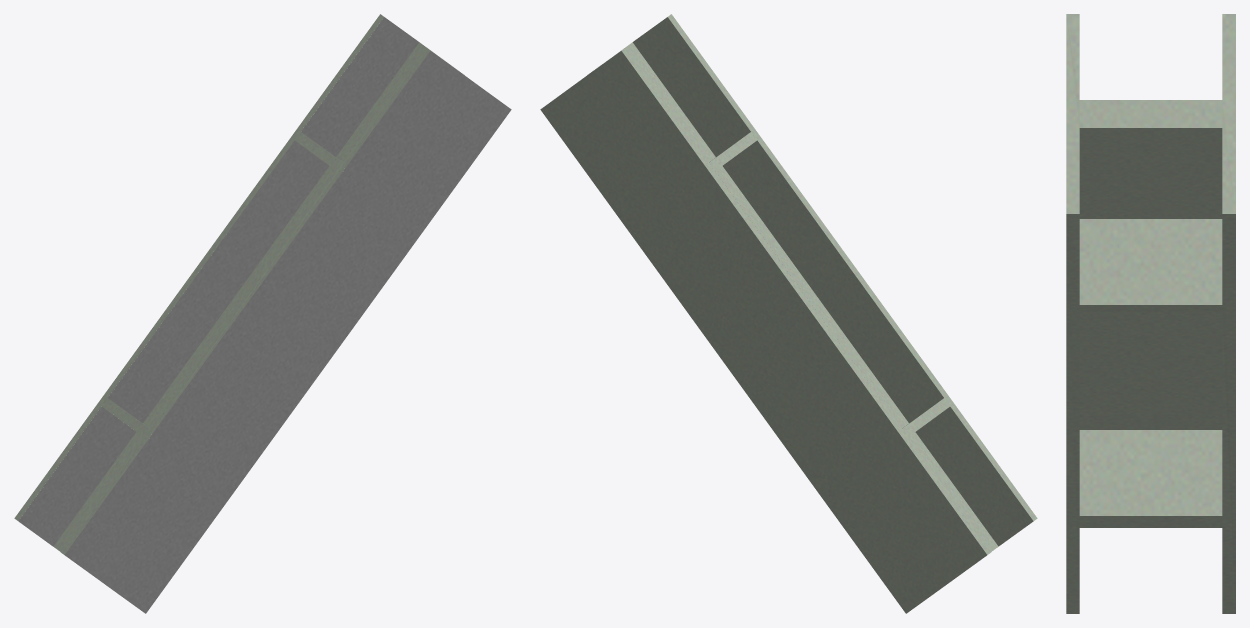
The model's file is azdb002-geode.glb.
3 renders of one model, left to right at view 1: azimuth 30°, elevation 25°; view 2: azimuth 150°, elevation 25°; view 3: azimuth 270°, elevation 25°, orthographic. The views are drawn at different scales.
Visible parts, largest first — view 1: Node; view 2: Node; view 3: Node.
Boxes of the visible parts, x1,y1,x2,y2 form: Node: (14,14,511,613); Node: (540,14,1037,613); Node: (1066,14,1235,613).
Size of the model in its own units: 0.5987 by 0.6317 by 0.1164.
2 materials, 2 textured.
